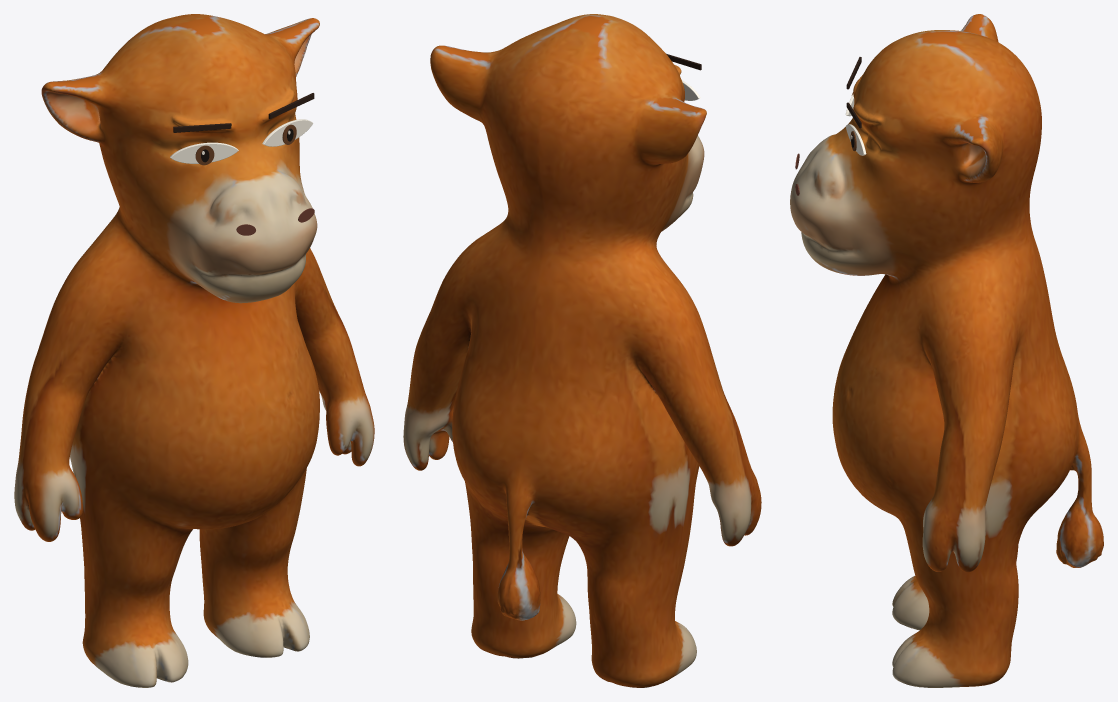
File: niulai-child-hires-static.glb
The picture shows the model from 3 angles, left to right: view 1: azimuth 30°, elevation 25°; view 2: azimuth 150°, elevation 25°; view 3: azimuth 270°, elevation 25°; orthographic projection. The views are drawn at different scales.
Parts seen in each view (by area): view 1: preparedply, EyeWhiteL, EyeWhiteR; view 2: preparedply; view 3: preparedply.
Boxes of the visible parts, x1,y1,x2,y2 form: preparedply: [14, 14, 374, 687]; EyeWhiteL: [170, 142, 238, 163]; EyeWhiteR: [262, 119, 313, 146]; preparedply: [403, 14, 761, 687]; preparedply: [790, 14, 1103, 687].
Size of the model in its own units: 1.2 by 2.1 by 0.9823.
